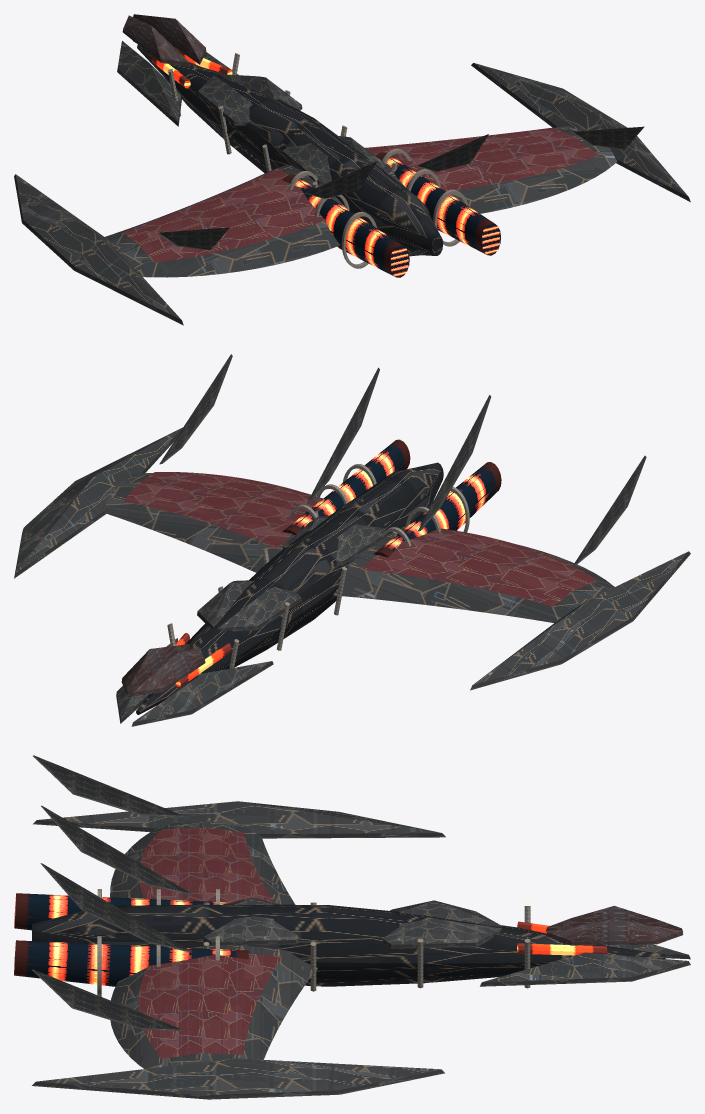
File: dynasty_courier.glb
3 renders of one model, top to bottom at view 1: azimuth 30°, elevation 25°; view 2: azimuth 150°, elevation 25°; view 3: azimuth 270°, elevation 25°, orthographic. The views are drawn at different scales.
Visible parts, largest first — view 1: dynasty_courier_lod_source; view 2: dynasty_courier_lod_source; view 3: dynasty_courier_lod_source.
Part boxes in pixels (box(x1,y1,x2,y2)): dynasty_courier_lod_source: box(14, 14, 690, 325); dynasty_courier_lod_source: box(14, 354, 690, 726); dynasty_courier_lod_source: box(14, 755, 690, 1099).
Size of the model in its own units: 1.42 by 0.3416 by 1.41.
Materials: 1 (1 with a texture image).
